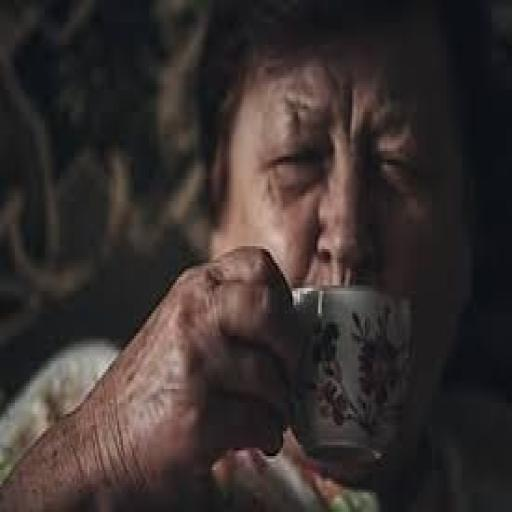drinking: (285, 280, 415, 476)
